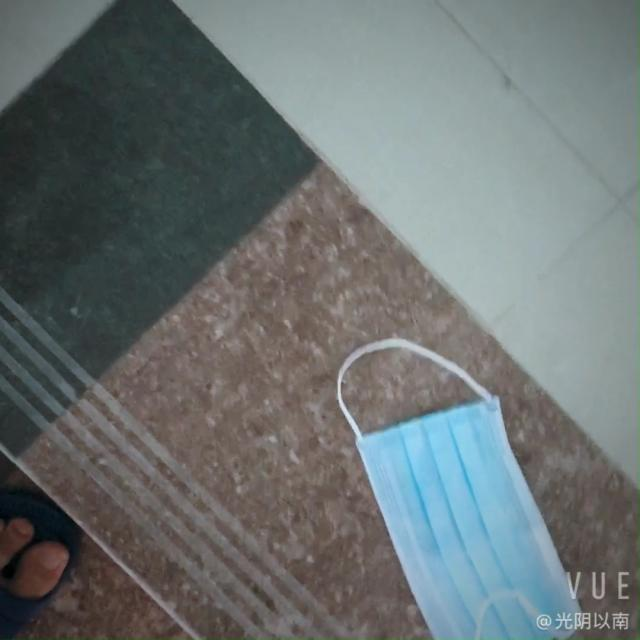face mask: (352, 386, 576, 636)
